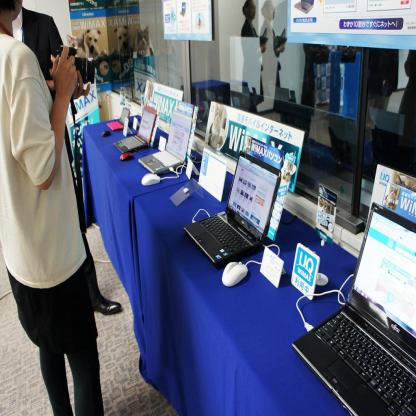board: (306, 194, 407, 414), (182, 150, 280, 271), (138, 112, 192, 176), (113, 106, 157, 155), (107, 107, 130, 131)
